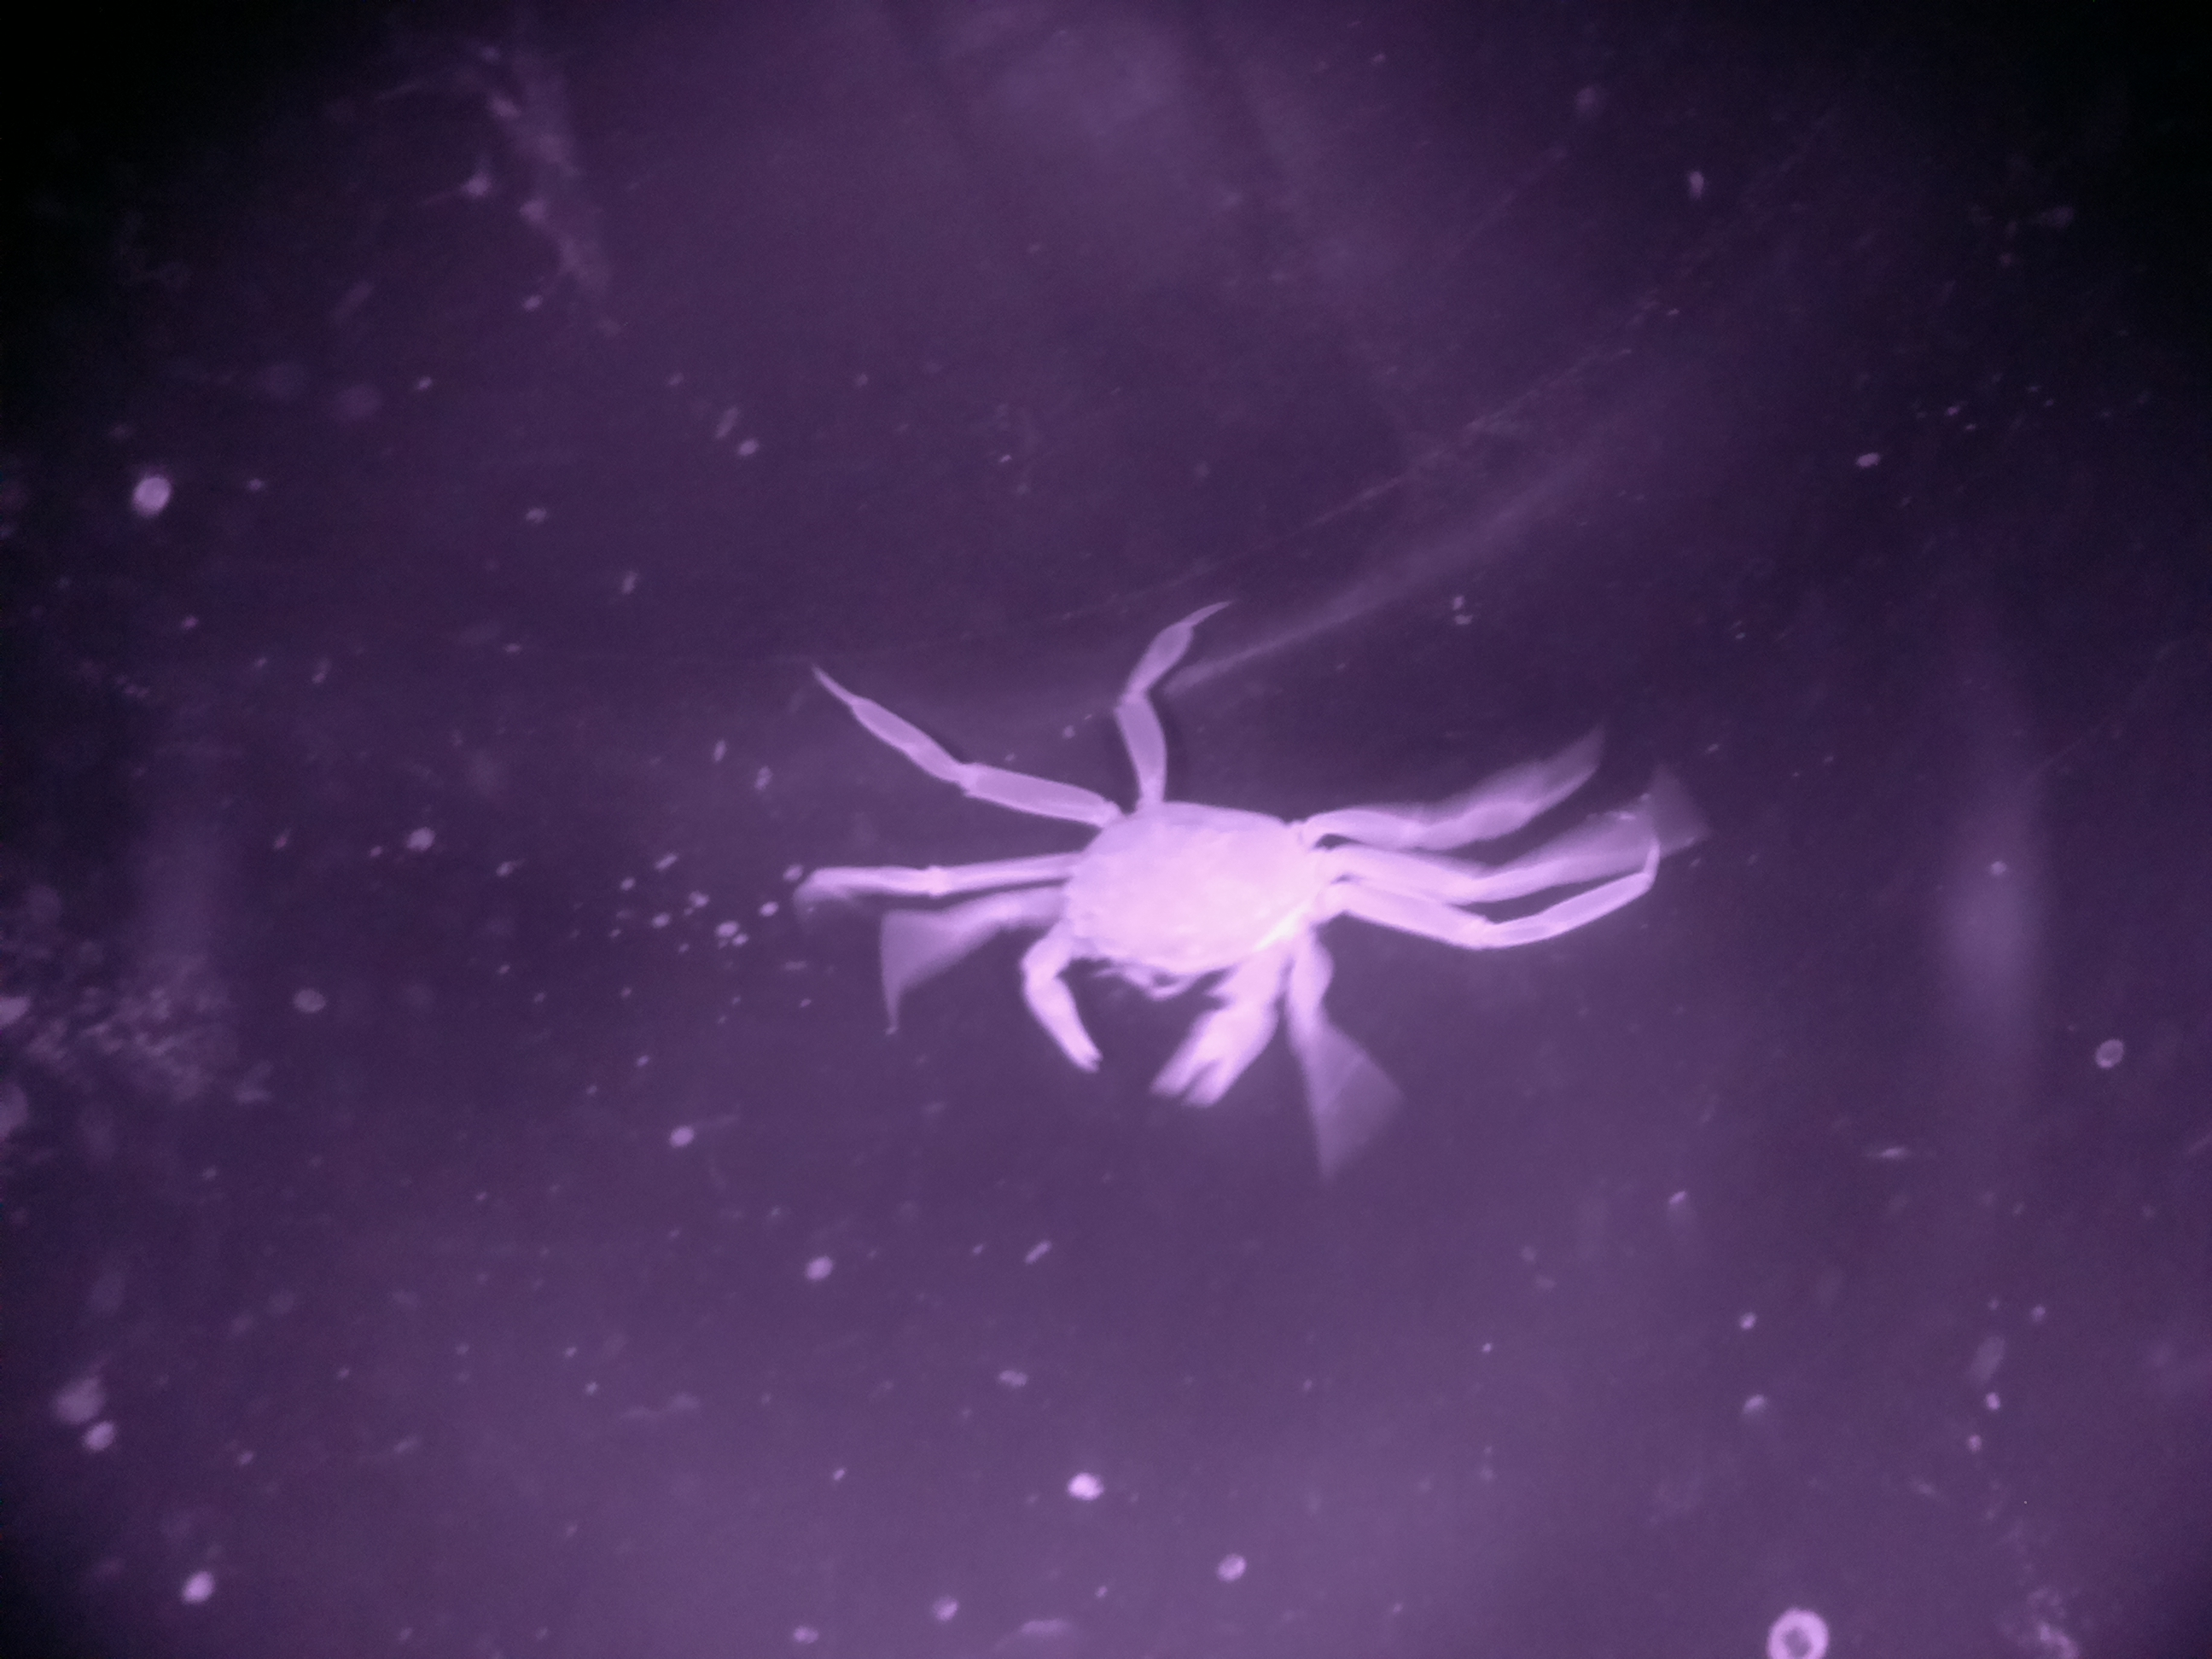Crab: (958, 685, 1505, 1187)
